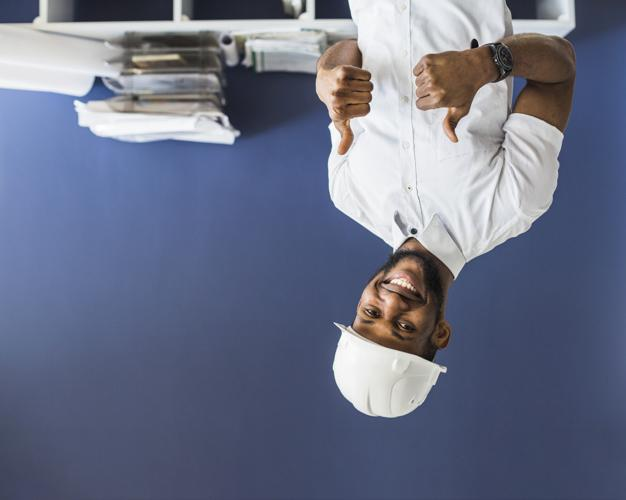thumbsdown: (413, 53, 459, 143), (331, 66, 374, 155)
